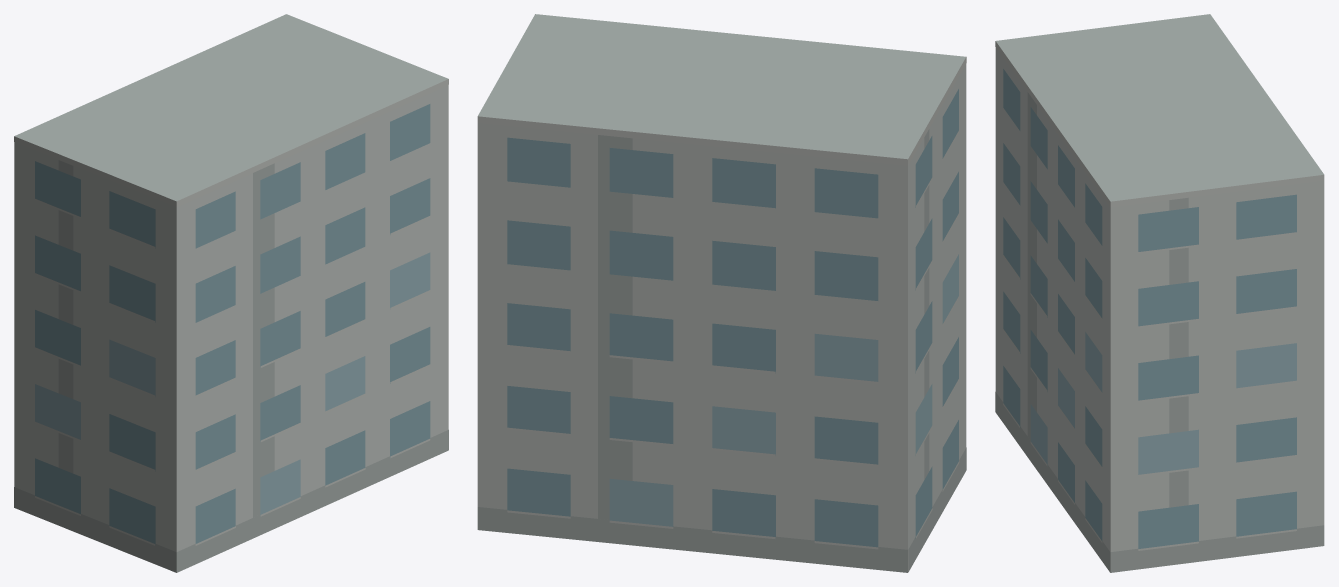
The model's file is survey-upis-33008682.glb.
3 renders of one model, left to right at view 1: azimuth 30°, elevation 25°; view 2: azimuth 150°, elevation 25°; view 3: azimuth 270°, elevation 25°, orthographic. The views are drawn at different scales.
Parts seen in each view (by area): view 1: survey-upis-33008682.tmp; view 2: survey-upis-33008682.tmp; view 3: survey-upis-33008682.tmp.
Boxes of the visible parts, box(x1,y1,x2,y2) form: survey-upis-33008682.tmp: box(14, 14, 448, 572); survey-upis-33008682.tmp: box(477, 14, 966, 572); survey-upis-33008682.tmp: box(995, 14, 1324, 572).
Size of the model in its own units: 16.62 by 15.32 by 12.31.
